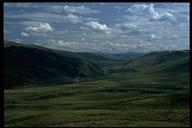cloud: (43, 5, 188, 46)
field: (91, 82, 189, 123)
mountain: (9, 42, 185, 88)
sky: (8, 5, 183, 35)
